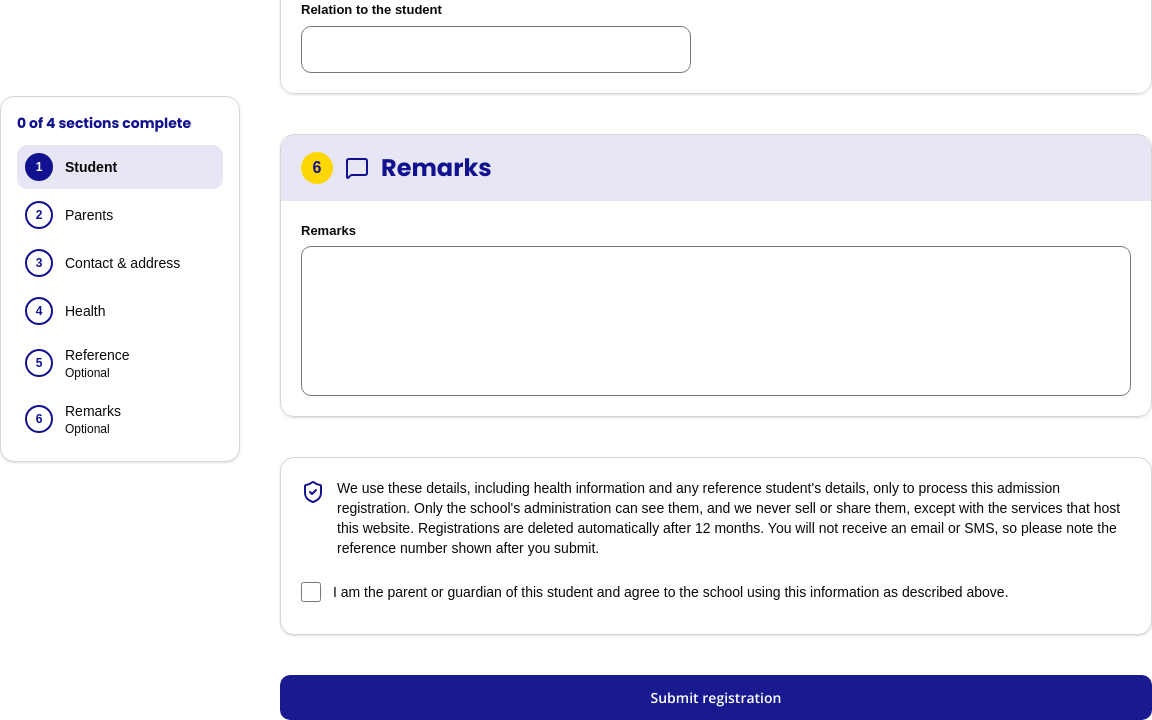
Test: RegistrationForm › both parents' mobiles empty marks both fields
(page scrolled)
Click the button "Submit registration". click: x=716, y=698
box: [280,675,1151,719]
(page scrolled)
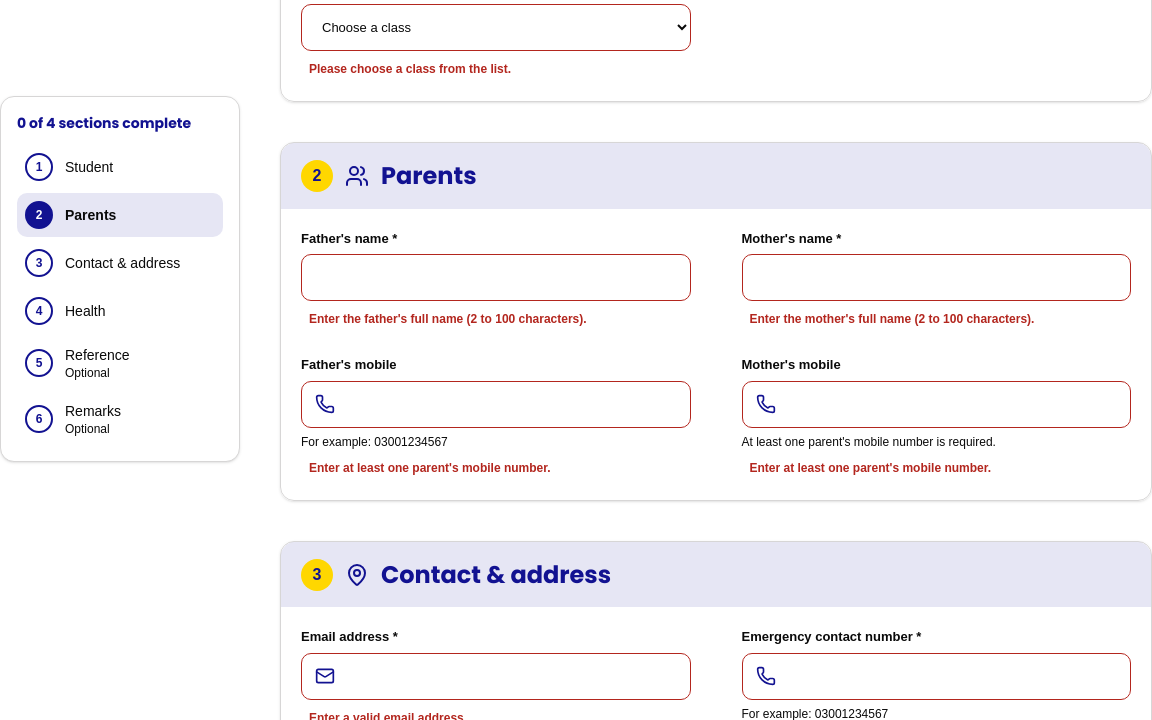
Expected: the text "Enter at least one parent's mobile number." below "Mother's mobile" is shown, [750,461,991,475]
